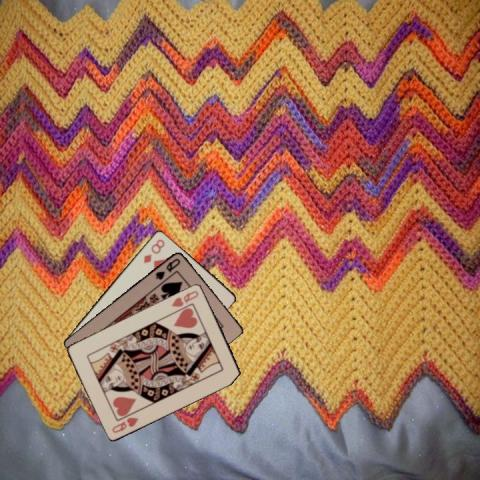8d: (141, 236, 166, 264)
Qh: (168, 287, 200, 308), (109, 414, 140, 434)
Qs: (152, 255, 182, 282)
